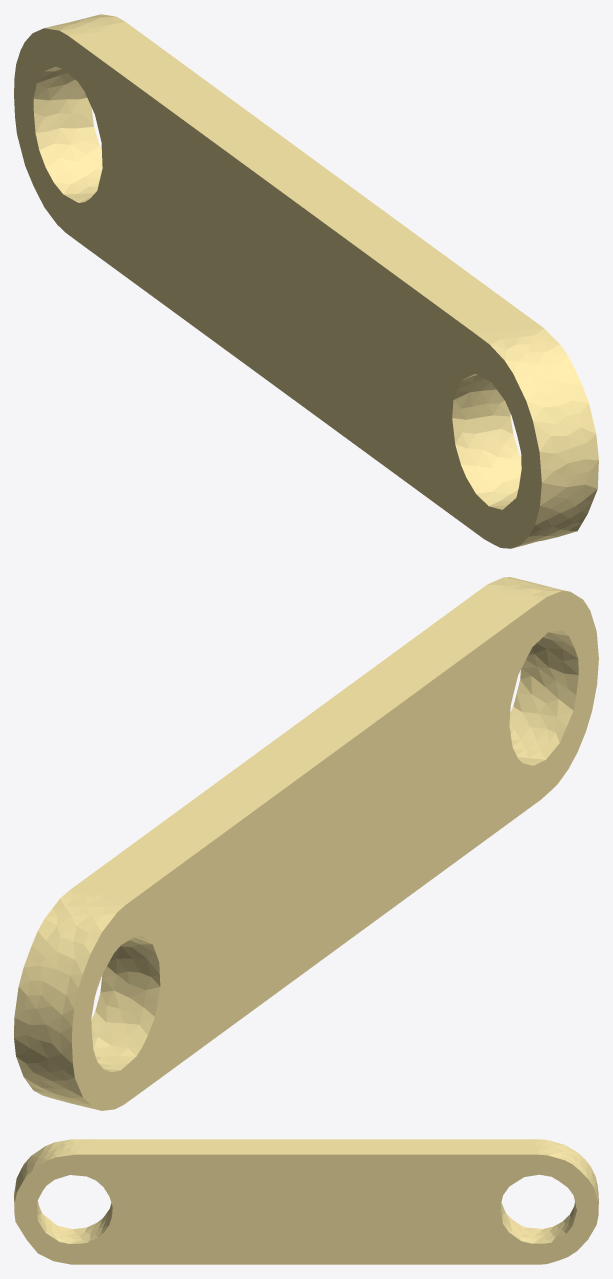
Rendered from input.gltf.
The picture shows the model from 3 angles, top to bottom: view 1: azimuth 30°, elevation 25°; view 2: azimuth 150°, elevation 25°; view 3: azimuth 270°, elevation 25°; orthographic projection. The views are drawn at different scales.
Visible parts, largest first — view 1: Renderer Node; view 2: Renderer Node; view 3: Renderer Node.
Part boxes in pixels (left/top/right/bottom): Renderer Node: left=14, top=14, right=598, bottom=548; Renderer Node: left=14, top=577, right=598, bottom=1110; Renderer Node: left=14, top=1139, right=598, bottom=1264.
Bounding box in the file's own units: 0.0938 × 0.3112 × 1.5.
